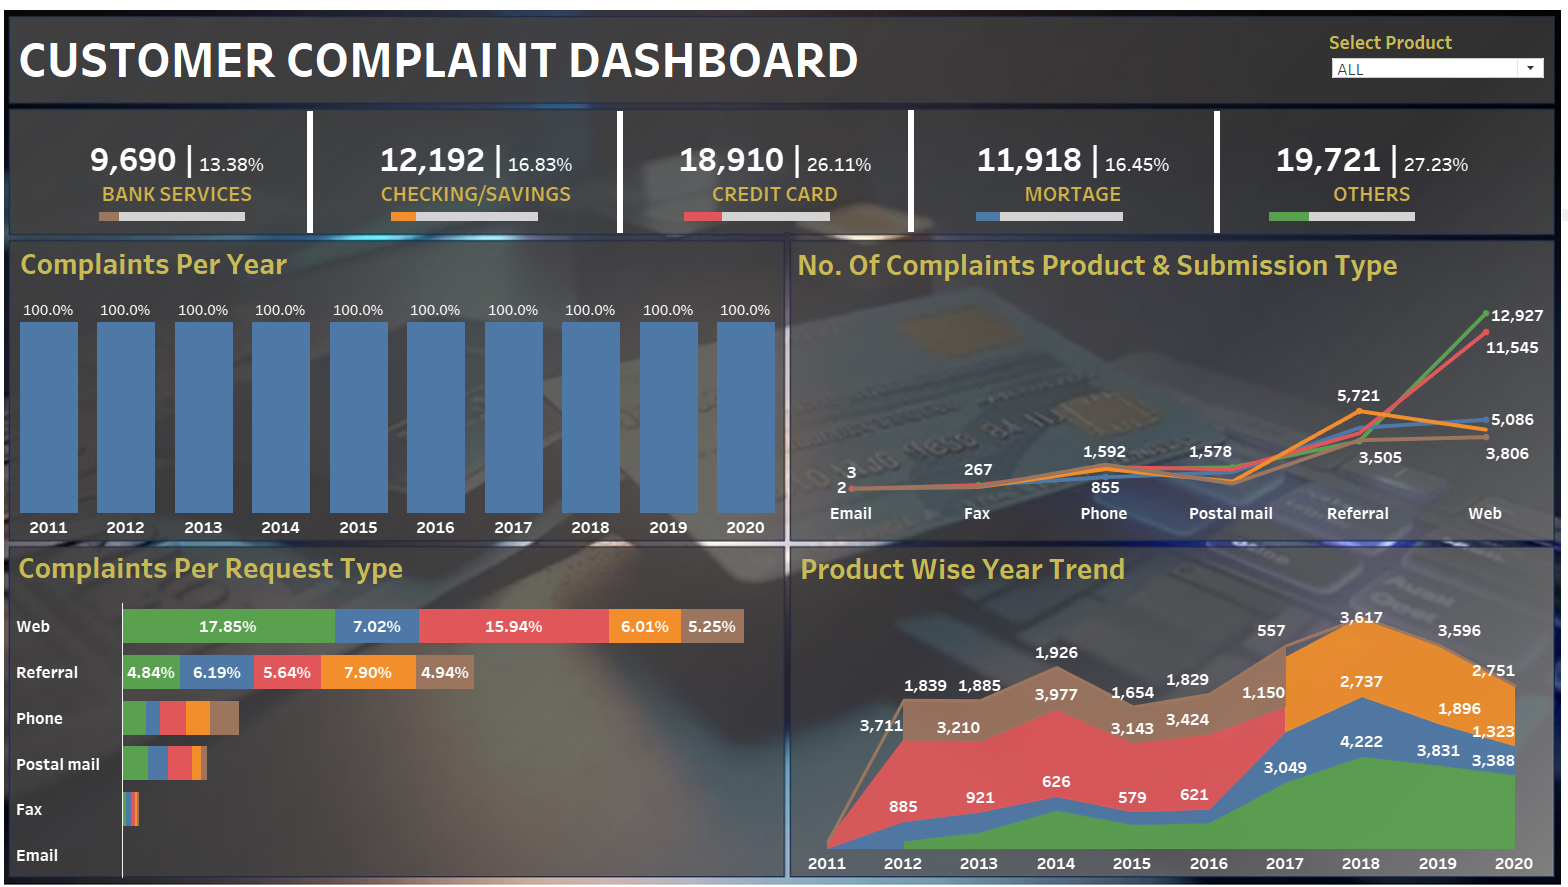

This screenshot's page, from the dashboard's own definition file:
{"tool":"tableau","page":{"name":"Customer Complaint Dashboard","canvas":[1600,900],"ordinal":0},"visuals":[{"type":"image","param":"C:/Users/mukul/Desktop/PICS/CreditCardBG.jpg","box":[8,8,1584,884]},{"type":"text","box":[31,15,856,88]},{"type":"parameter","param":"[Parameters].[Parameter 1]","box":[1346,31,218,68]},{"type":"blank","box":[925,112,6,122]},{"type":"worksheet","title":"KPI","mark":"Automatic","box":[45,113,1493,97]},{"type":"blank","box":[324,113,6,122]},{"type":"blank","box":[634,113,6,122]},{"type":"blank","box":[1231,113,6,122]},{"type":"worksheet","title":"% OF COMPLAINTS","mark":"Bar","cols":["Calculation_141863399474626561","Number of Complaints"],"box":[116,211,1487,12]},{"type":"text","box":[810,228,666,76]},{"type":"text","box":[33,246,276,38]},{"type":"worksheet","title":"Complaints per year","mark":"Bar","cols":["Date Received"],"box":[27,294,775,247]},{"type":"worksheet","title":"Complaints Product and Submission Type","mark":"Line","rows":["Number of Complaints"],"cols":["Submitted via"],"box":[805,304,761,237]},{"type":"text","box":[31,550,394,38]},{"type":"text","box":[813,551,334,38]},{"type":"worksheet","title":"Request Type","mark":"Automatic","rows":["Submitted via"],"box":[27,605,765,275]},{"type":"worksheet","title":"Year Trend","mark":"Area","rows":["Number of Complaints","Number of Complaints"],"cols":["Date Received"],"box":[806,606,764,271]}]}

Visuals, with their boxes in screenshot pixels (x1, y1, x2, y2), scaled from the page's 1600x900 canvas onto the 1568x887 screenshot:
image: bbox(8, 8, 1560, 879)
text: bbox(30, 15, 869, 102)
parameter: bbox(1319, 31, 1533, 98)
blank: bbox(906, 110, 912, 231)
"KPI" worksheet: bbox(44, 111, 1507, 207)
blank: bbox(318, 111, 323, 232)
blank: bbox(621, 111, 627, 232)
blank: bbox(1206, 111, 1212, 232)
"% OF COMPLAINTS" worksheet (Bar marks): bbox(114, 208, 1567, 220)
text: bbox(794, 225, 1446, 300)
text: bbox(32, 242, 303, 280)
"Complaints per year" worksheet (Bar marks): bbox(26, 290, 786, 533)
"Complaints Product and Submission Type" worksheet (Line marks): bbox(789, 300, 1535, 533)
text: bbox(30, 542, 416, 580)
text: bbox(797, 543, 1124, 580)
"Request Type" worksheet: bbox(26, 596, 776, 867)
"Year Trend" worksheet (Area marks): bbox(790, 597, 1539, 864)
